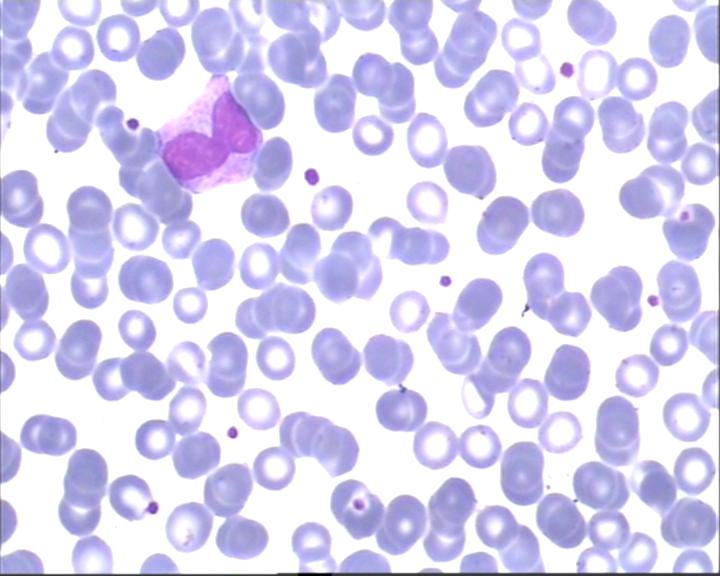mono: (157, 75, 259, 194)
